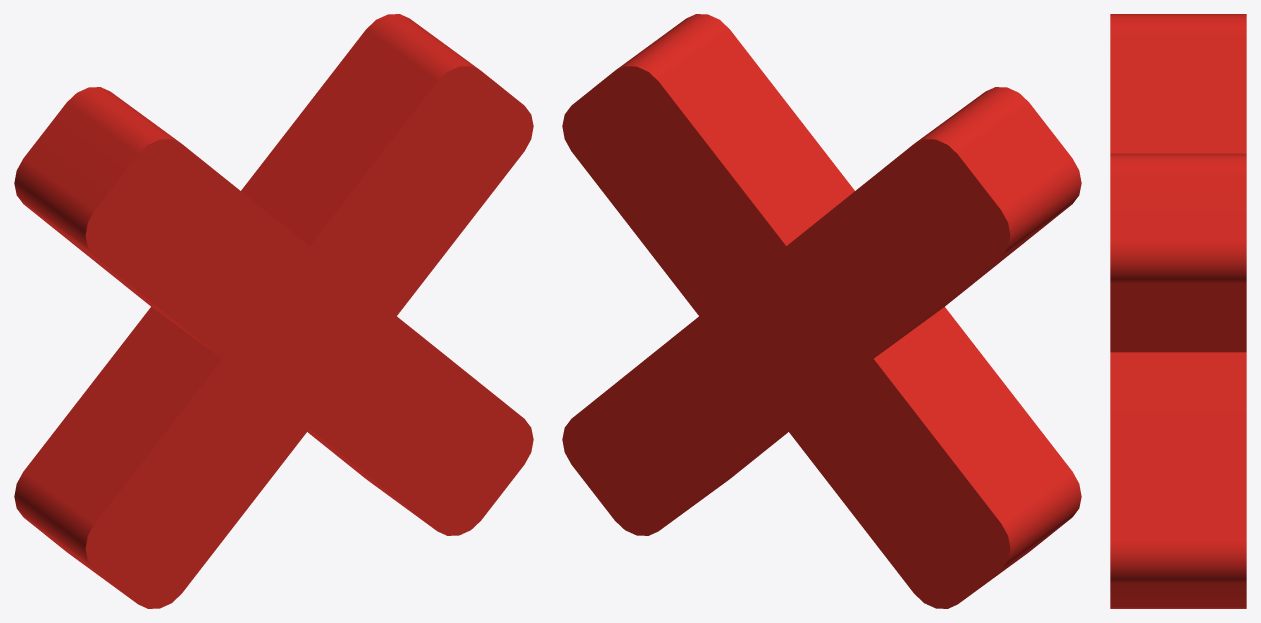
Rendered from silang.fbx.
The picture shows the model from 3 angles, left to right: view 1: azimuth 30°, elevation 25°; view 2: azimuth 150°, elevation 25°; view 3: azimuth 270°, elevation 25°; orthographic projection. The views are drawn at different scales.
Parts seen in each view (by area): view 1: pCube1, pCube2; view 2: pCube1, pCube2; view 3: pCube2, pCube1.
Part boxes in pixels (x1=…): pCube1: x1=14, y1=14, x2=533, y2=608; pCube2: x1=14, y1=87, x2=533, y2=535; pCube1: x1=562, y1=14, x2=1081, y2=608; pCube2: x1=562, y1=87, x2=1081, y2=535; pCube2: x1=1110, y1=14, x2=1246, y2=608; pCube1: x1=1110, y1=153, x2=1246, y2=352.
Size of the model in its own units: 1.17 by 1.17 by 0.3233.
